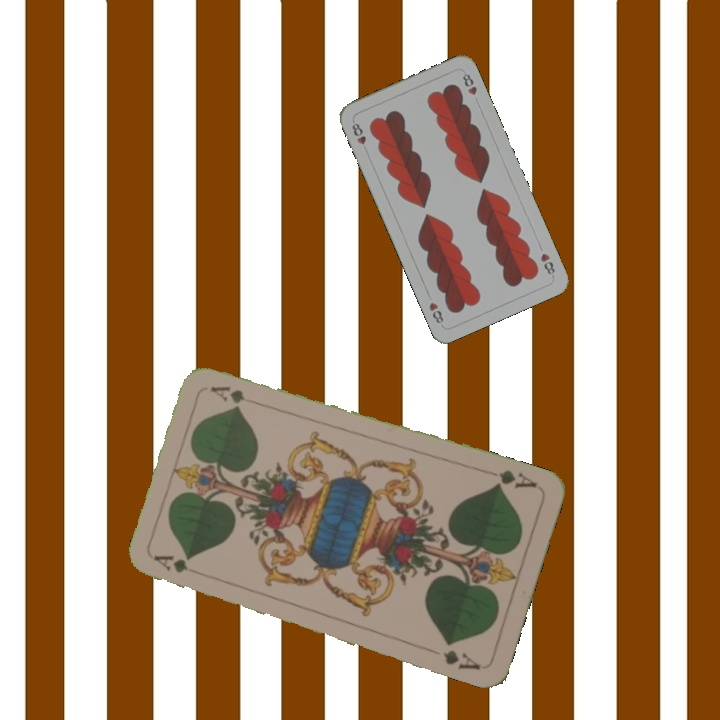GA: (150, 551, 208, 580), (483, 465, 539, 491)
H8: (348, 119, 371, 155), (536, 249, 557, 280)
